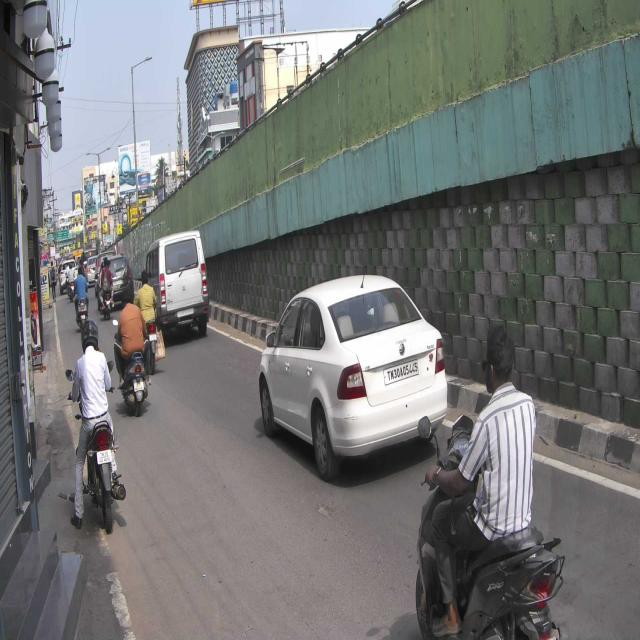single_rider: (412, 322, 566, 640), (68, 313, 120, 543)
